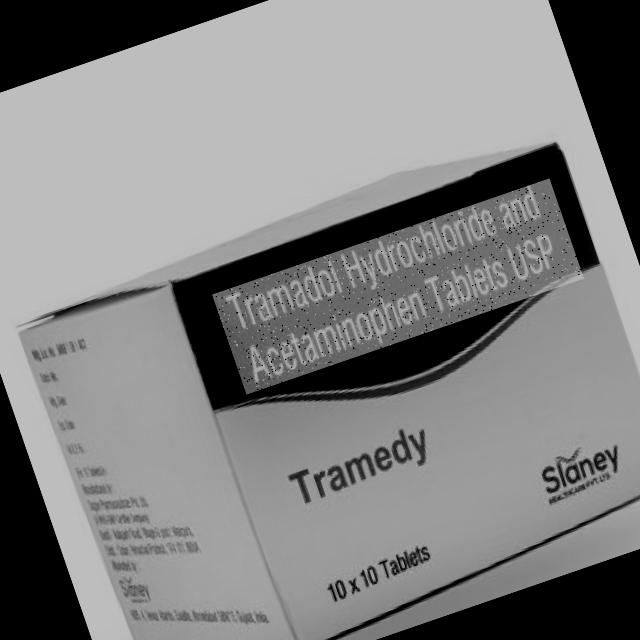Medicine-name: (213, 180, 585, 396)
